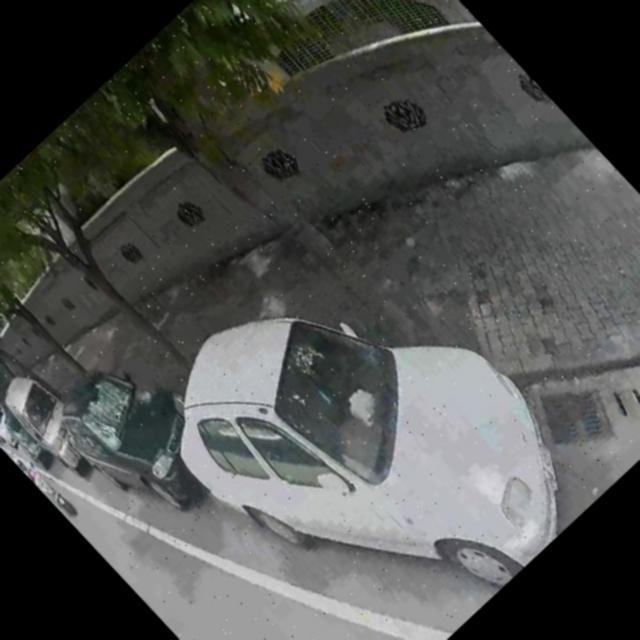person: (13, 452, 46, 487)
